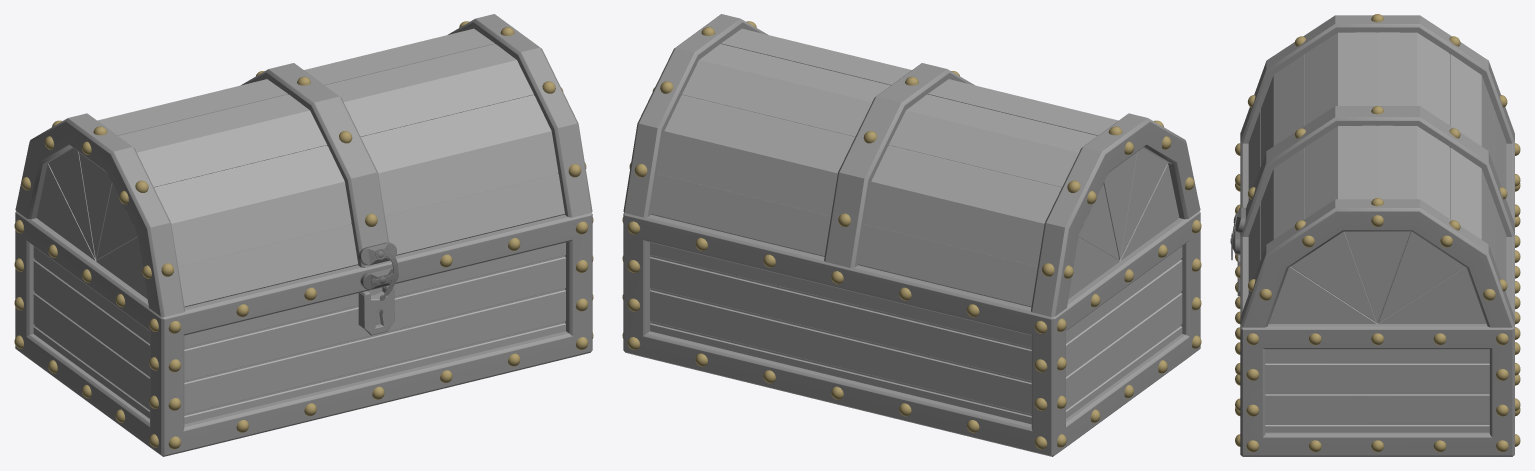
Rendered from Chest_Model.fbx.
3 renders of one model, left to right at view 1: azimuth 30°, elevation 25°; view 2: azimuth 150°, elevation 25°; view 3: azimuth 270°, elevation 25°, orthographic. The views are drawn at different scales.
Visible parts, largest first — view 1: Top, Base, Lock; view 2: Top, Base; view 3: Top, Base.
Part boxes in pixels (bbox=[...]): Top: bbox=[15, 14, 592, 316]; Base: bbox=[14, 211, 593, 456]; Lock: bbox=[358, 285, 394, 335]; Top: bbox=[623, 14, 1200, 316]; Base: bbox=[622, 211, 1201, 456]; Top: bbox=[1233, 14, 1514, 327]; Base: bbox=[1230, 142, 1520, 456].
Size of the model in its own units: 86 by 51 by 52.78.
